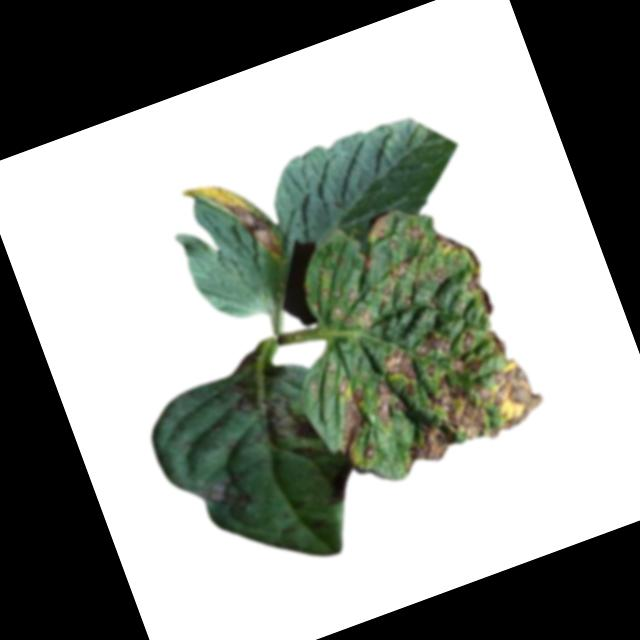Early_blight: (272, 184, 552, 495), (180, 162, 288, 281), (225, 356, 321, 465), (194, 464, 259, 529), (317, 459, 361, 505)
